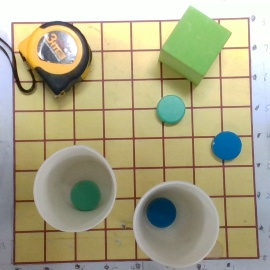blue: (212, 130, 242, 162)
cup_blue: (131, 172, 218, 268)
cup_green: (31, 143, 120, 233)
green: (156, 95, 187, 125)
